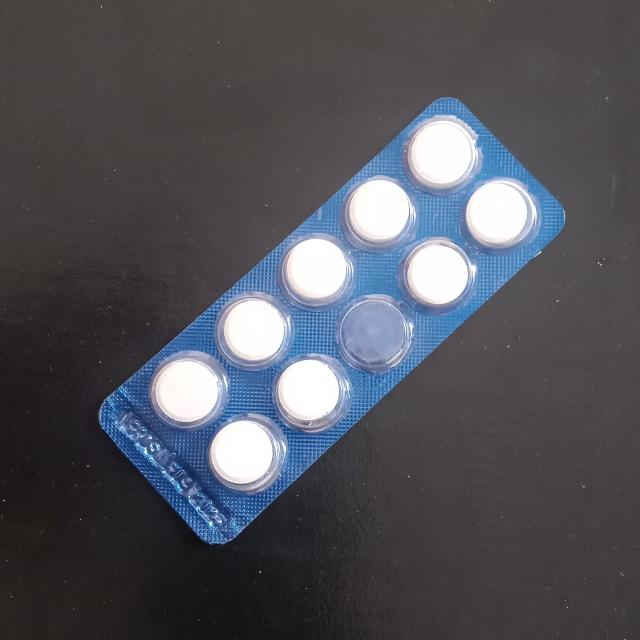defect: (337, 296, 416, 372)
